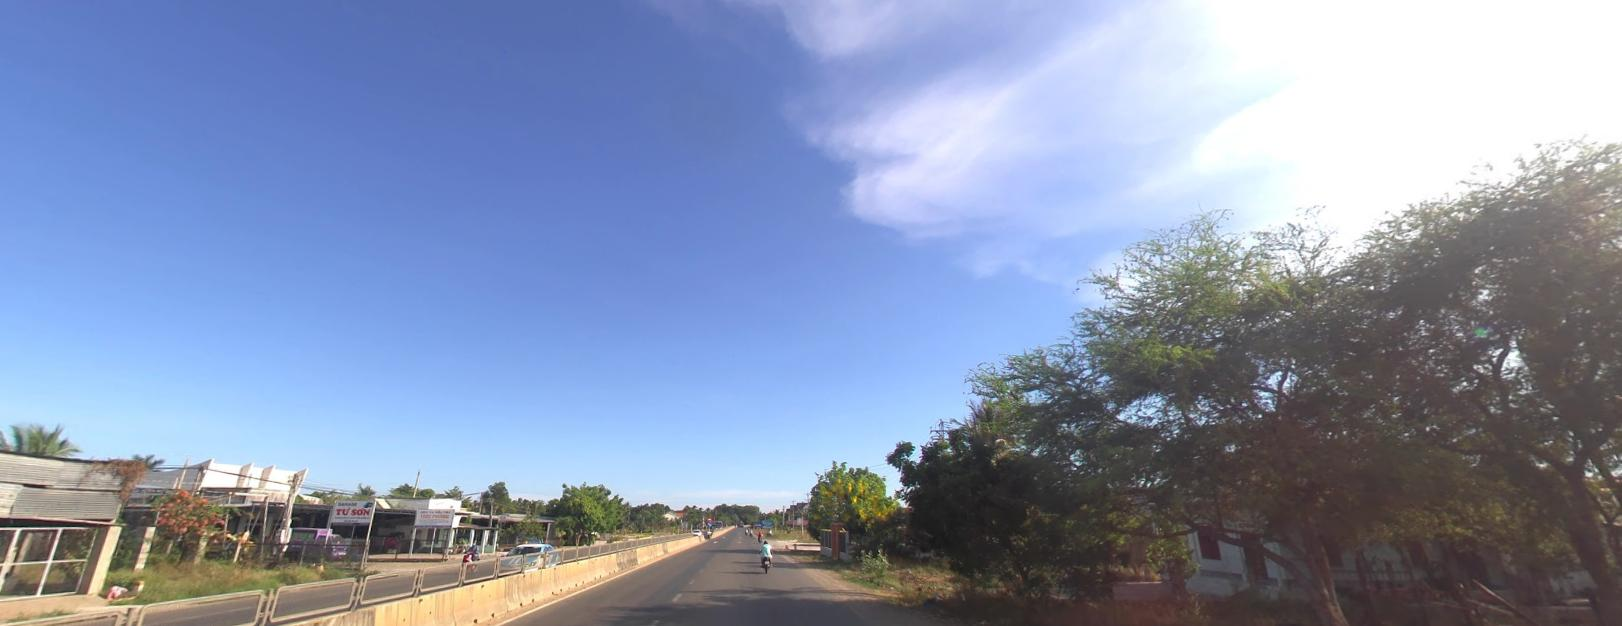Cam nguoc chieu: (705, 515, 712, 520)
Hieu lenh: (705, 520, 712, 526)
